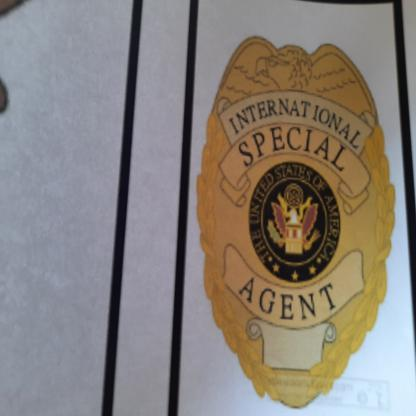G-man: (190, 25, 406, 416)
